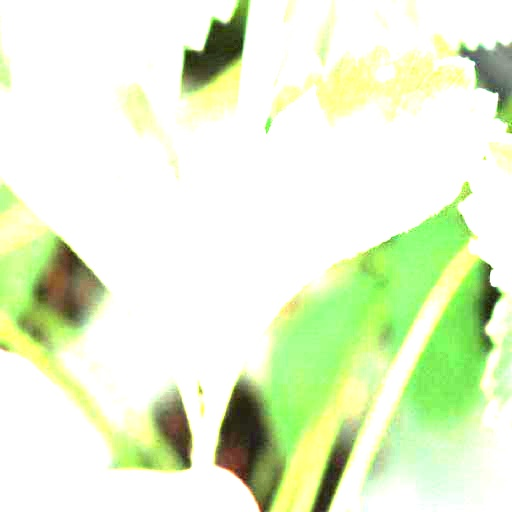Powdery Mildew Leaf: (145, 31, 507, 423)
